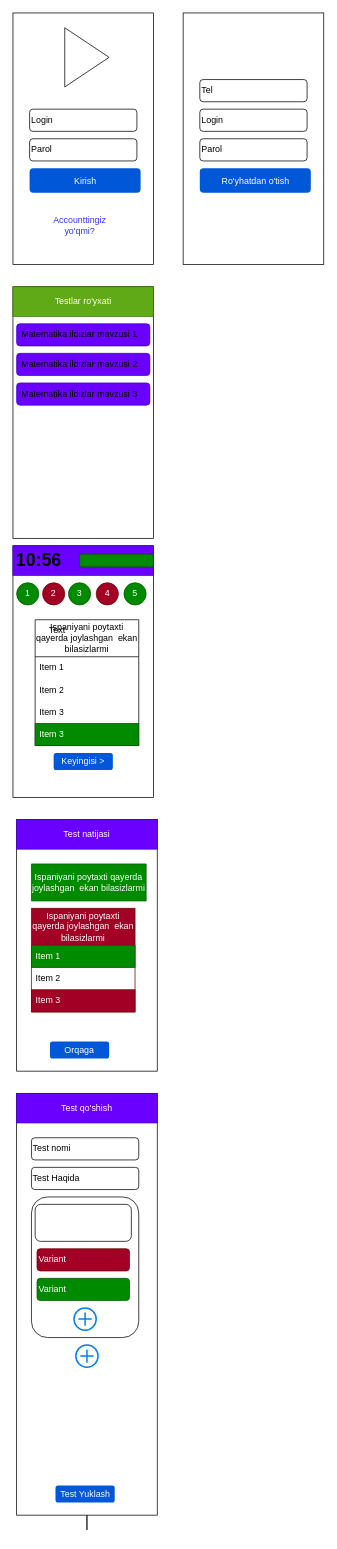
Image size: 337x1549. Some labels were removed from this diagram. The shapes that lost their labels are listed below. From the top down, each one's centre as x and y in pixels, then its label:
At point 116,560: "Testni yakunlash".
At point 82,1222: "Savol".
